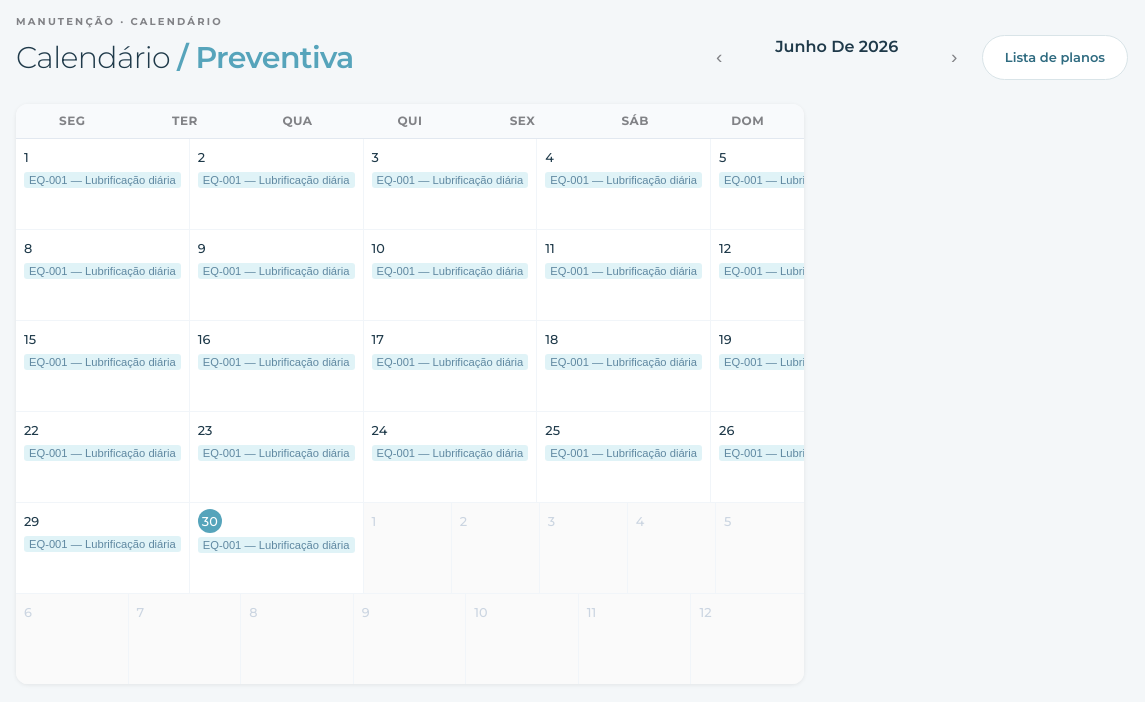
Scenario: MaintenanceCalendarComponent › AC-7 — detail panel › should open detail panel on badge click
This screenshot has width=1145, height=702.
Click the 1st button with test id "schedule-badge" at (102, 180), box x1=24 y1=172 x2=181 y2=188
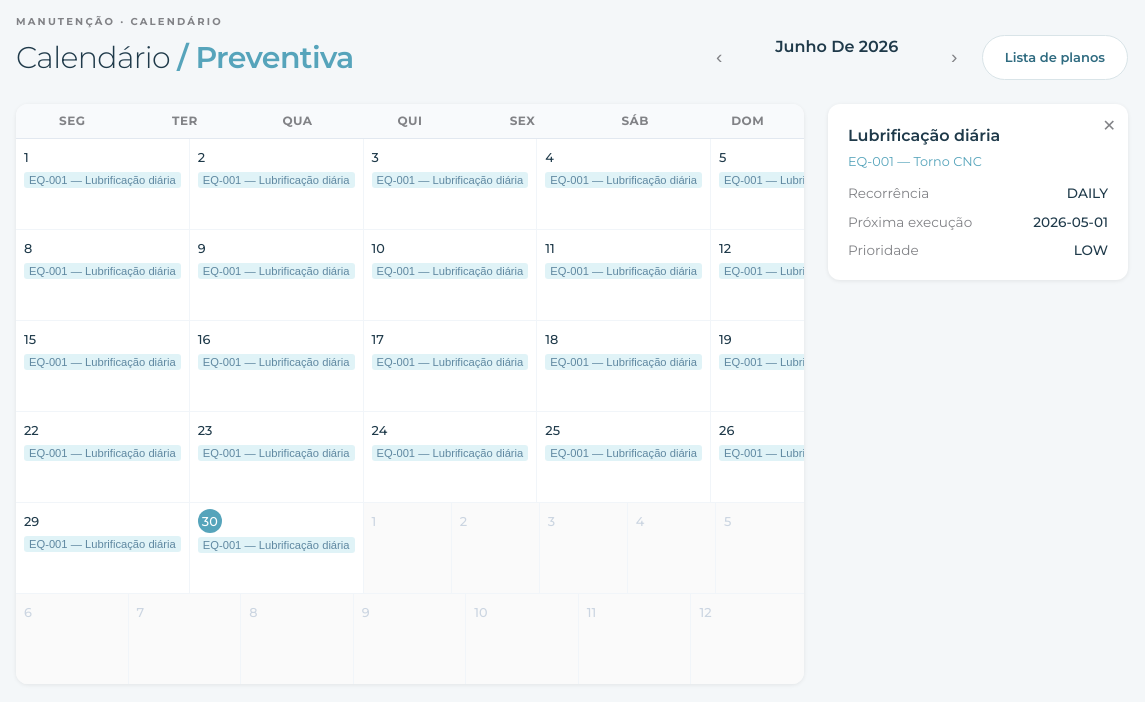
Expected: the element with test id "detail-panel" is shown, x1=828 y1=104 x2=1128 y2=280
